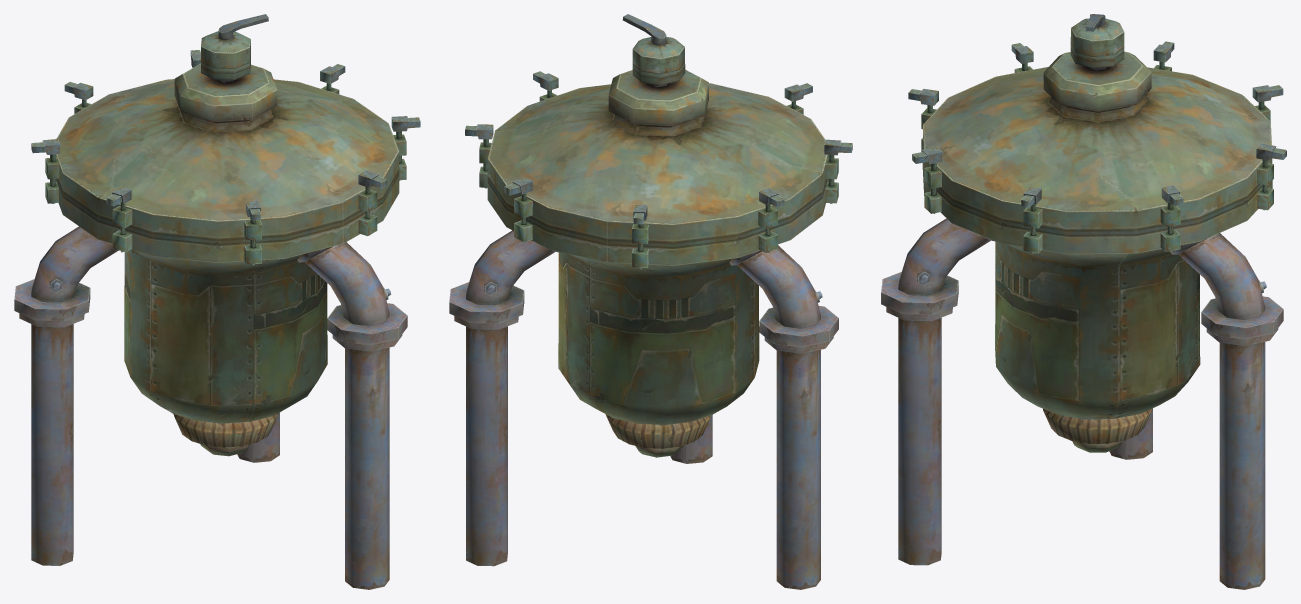
The model's file is all_arch_slum_water_filter.glb.
The picture shows the model from 3 angles, left to right: view 1: azimuth 30°, elevation 25°; view 2: azimuth 150°, elevation 25°; view 3: azimuth 270°, elevation 25°; orthographic projection. The views are drawn at different scales.
Visible parts, largest first — view 1: all_arch_slum_water_filter; view 2: all_arch_slum_water_filter; view 3: all_arch_slum_water_filter.
Boxes of the visible parts, x1=… form: all_arch_slum_water_filter: x1=14, y1=14, x2=420, y2=589; all_arch_slum_water_filter: x1=449, y1=14, x2=852, y2=589; all_arch_slum_water_filter: x1=881, y1=14, x2=1286, y2=589.
Bounding box in the file's own units: 0.3616 × 0.499 × 0.3525.
Materials: 1 (1 with a texture image).
